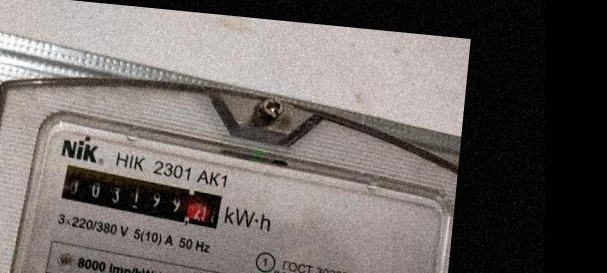0: (66, 175, 80, 195), (88, 178, 101, 198)
1: (130, 183, 141, 203)
3: (109, 184, 120, 204)
6: (190, 206, 202, 223)
9: (169, 195, 181, 214), (150, 189, 160, 208)
screen: (52, 159, 230, 236)
